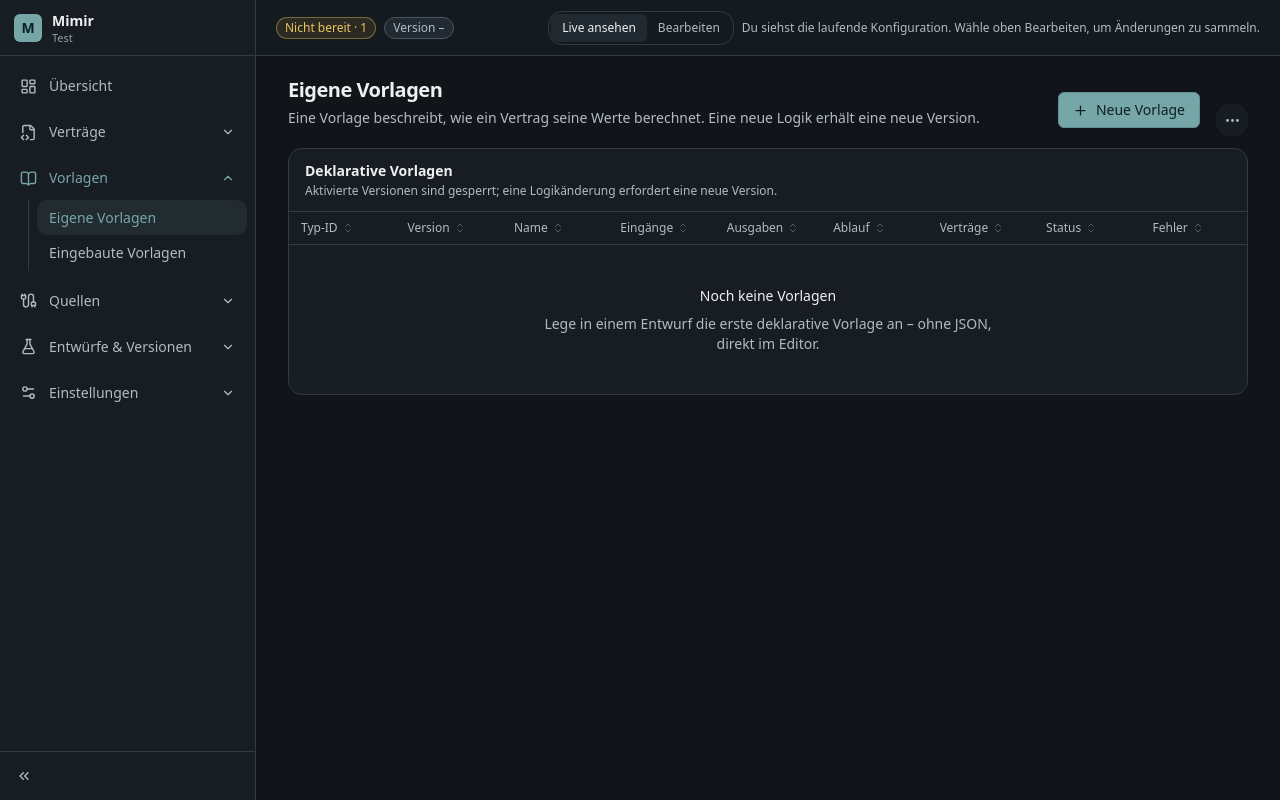
Test: opens creation on #/templates/own with an automatic draft and no route change
Click the button "Neue Vorlage" at (1129,110), box [1058,92,1200,128]
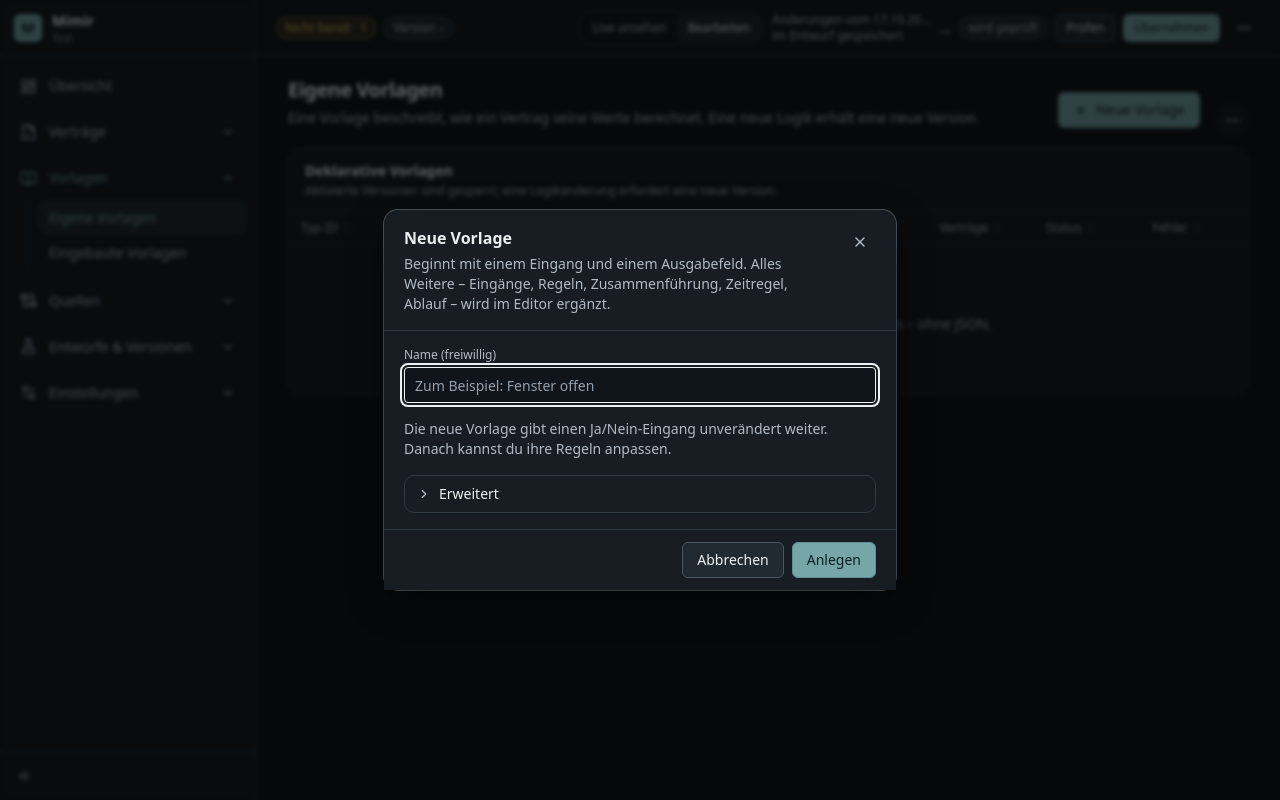
Expected: the dialog "Neue Vorlage" is shown, [384,210,896,590]
